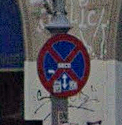oprirea_interzisa: (35, 34, 90, 96)
